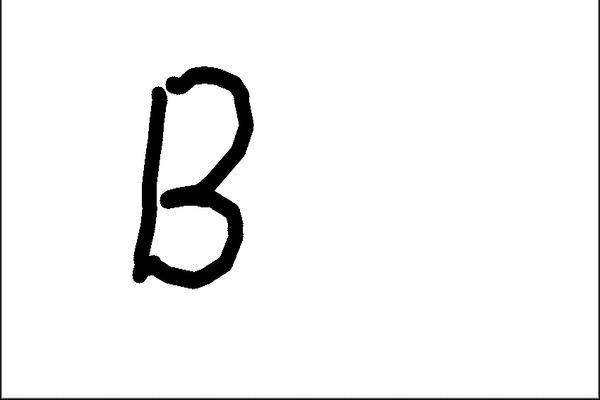B: (113, 54, 260, 300)
